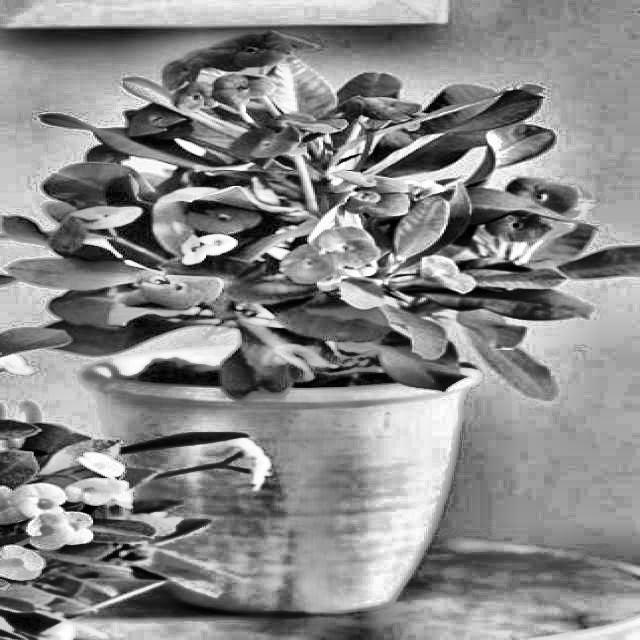plants: (69, 59, 615, 412), (0, 407, 270, 633)
